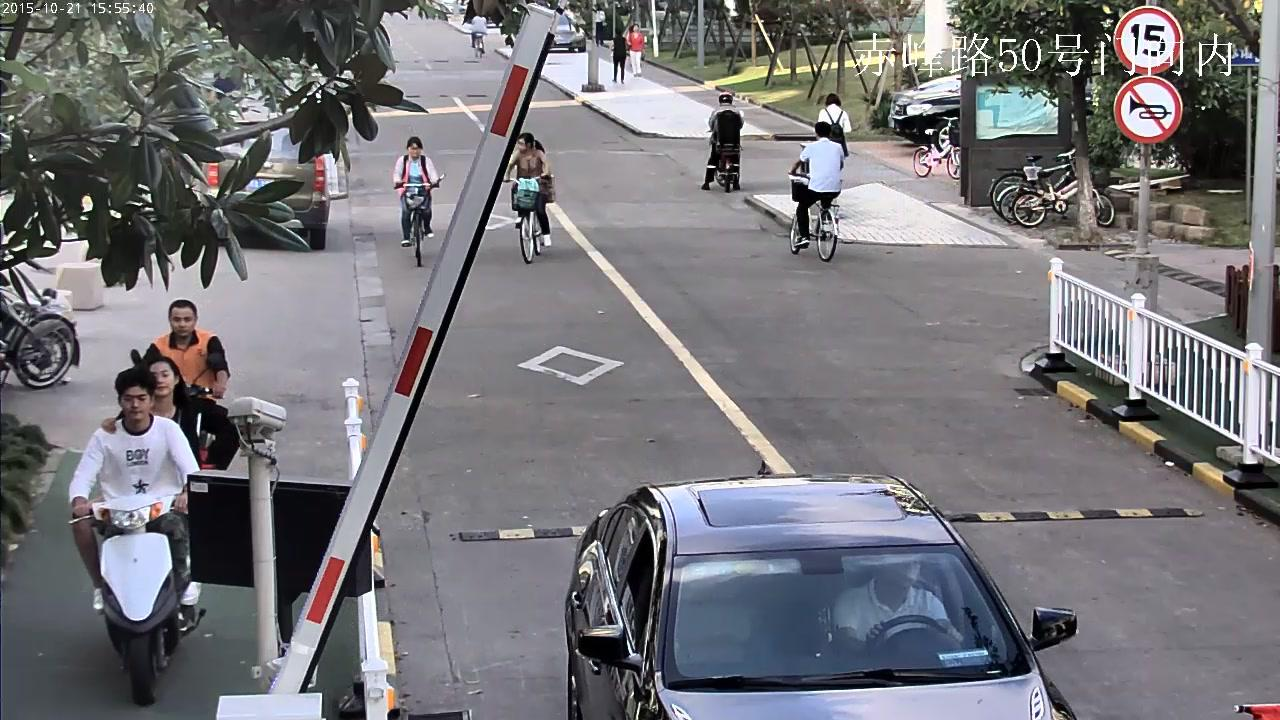person: (66, 366, 206, 706), (71, 356, 239, 613), (67, 367, 202, 632), (129, 299, 239, 470), (130, 300, 239, 470), (828, 560, 964, 650), (789, 121, 844, 262), (503, 131, 555, 264), (789, 122, 844, 246), (392, 135, 442, 267), (503, 132, 555, 246), (392, 136, 438, 244), (701, 94, 744, 192), (701, 94, 744, 190), (817, 93, 852, 181), (626, 24, 644, 77), (612, 32, 627, 84), (469, 16, 487, 58), (471, 16, 486, 53), (595, 10, 605, 47)
